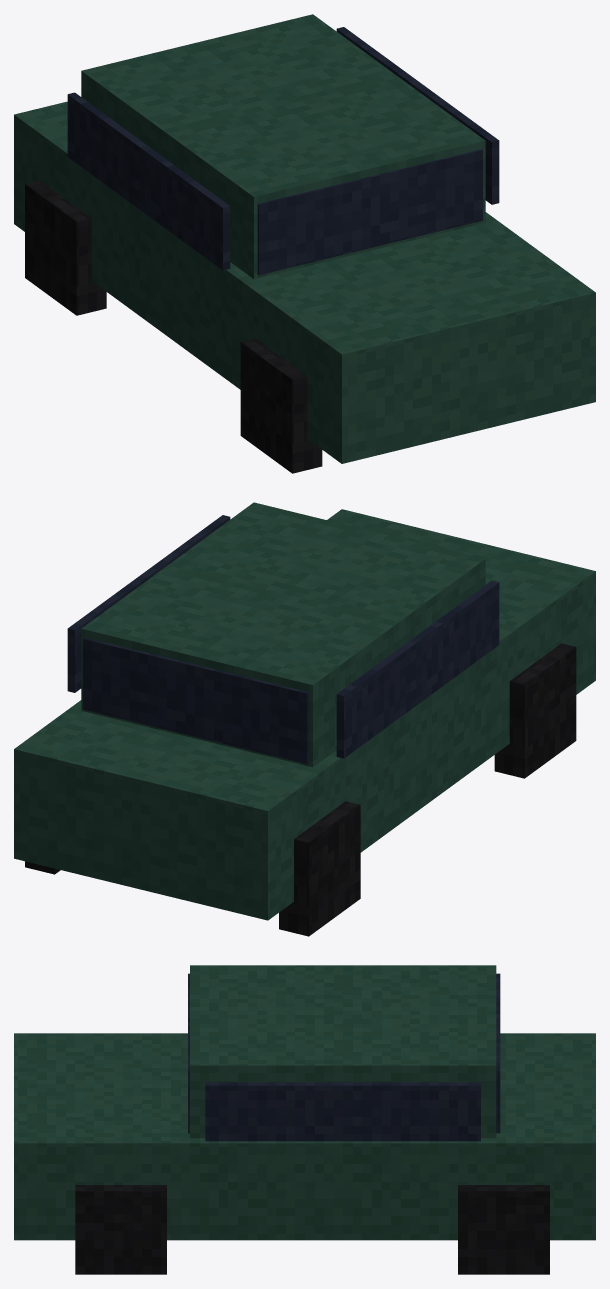
File: env_car_hatch.glb
The picture shows the model from 3 angles, top to bottom: view 1: azimuth 30°, elevation 25°; view 2: azimuth 150°, elevation 25°; view 3: azimuth 270°, elevation 25°; orthographic projection. The views are drawn at different scales.
Parts seen in each view (by area): view 1: env_car_hatch; view 2: env_car_hatch; view 3: env_car_hatch.
Part boxes in pixels (box(x1,y1,x2,y2)): env_car_hatch: box(14, 14, 595, 473); env_car_hatch: box(14, 502, 595, 936); env_car_hatch: box(14, 965, 595, 1274).
Size of the model in its own units: 1.9 by 1.42 by 3.8.
Materials: 3 (3 with a texture image).
